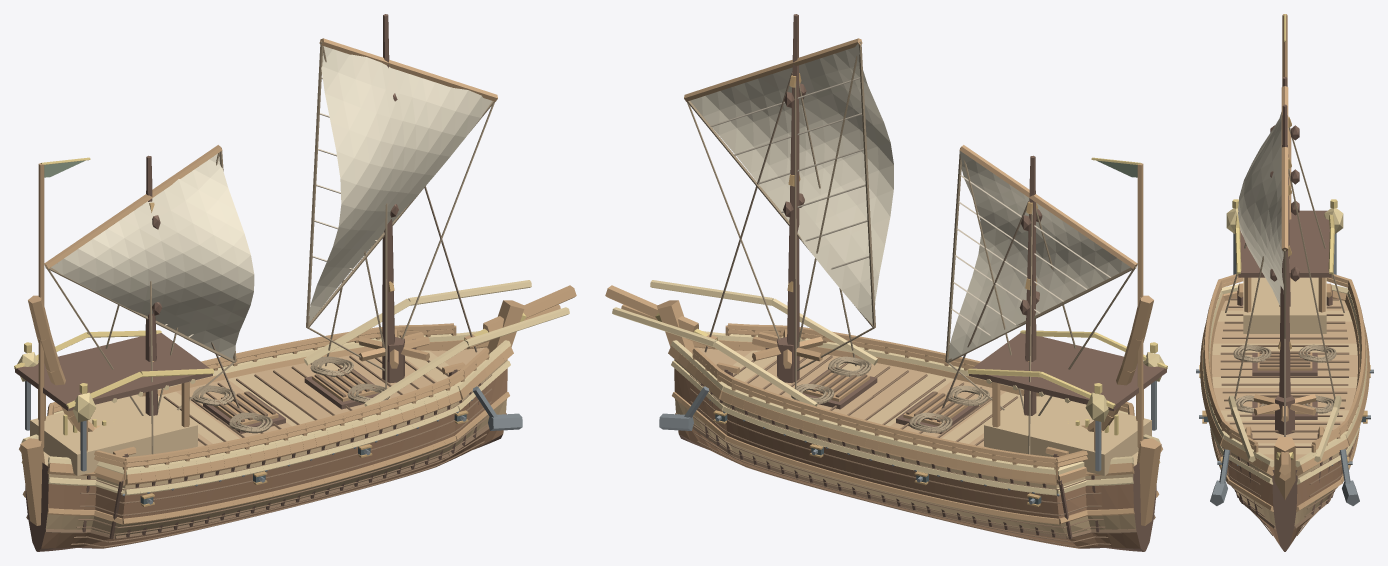
Rendered from oman_boom-v5-mobile.glb.
The picture shows the model from 3 angles, left to right: view 1: azimuth 30°, elevation 25°; view 2: azimuth 150°, elevation 25°; view 3: azimuth 270°, elevation 25°; orthographic projection. The views are drawn at different scales.
Visible parts, largest first — view 1: oman_boom_sails_sail, oman_boom_hull_wood, oman_boom_hull_hull2, oman_boom_hull_seam, oman_boom_hull_pale, oman_boom_railings_wood, oman_boom_deck_darkwood, oman_boom_deck_decklight, oman_boom_hull_pine, oman_boom_hull_deck, oman_boom_rigging_rope, oman_boom_ornament_pale (+14 smaller); view 2: oman_boom_sails_sail, oman_boom_hull_wood, oman_boom_hull_hull2, oman_boom_hull_seam, oman_boom_hull_pale, oman_boom_railings_wood, oman_boom_deck_darkwood, oman_boom_deck_decklight, oman_boom_rigging_rope, oman_boom_hull_pine, oman_boom_masts_darkwood, oman_boom_hull_deck (+16 smaller); view 3: oman_boom_hull_deck, oman_boom_sails_sail, oman_boom_hull_wood, oman_boom_hull_seam, oman_boom_deck_decklight, oman_boom_hull_decklight, oman_boom_deck_darkwood, oman_boom_railings_wood, oman_boom_hull_pale, oman_boom_masts_darkwood, oman_boom_hull_hull2, oman_boom_fittings_wood (+15 smaller).
Part boxes in pixels (x1,y1,x2,y2): oman_boom_sails_sail: [51, 46, 492, 358]; oman_boom_hull_wood: [19, 300, 560, 525]; oman_boom_hull_hull2: [41, 368, 507, 548]; oman_boom_hull_seam: [26, 355, 506, 547]; oman_boom_hull_pale: [21, 331, 510, 495]; oman_boom_railings_wood: [47, 323, 489, 479]; oman_boom_deck_darkwood: [15, 333, 212, 411]; oman_boom_deck_decklight: [30, 394, 197, 475]; oman_boom_hull_pine: [45, 346, 507, 536]; oman_boom_hull_deck: [176, 347, 486, 447]; oman_boom_rigging_rope: [45, 41, 494, 415]; oman_boom_ornament_pale: [304, 280, 569, 406]; oman_boom_sails_sail: [690, 43, 1130, 359]; oman_boom_hull_wood: [621, 300, 1162, 525]; oman_boom_hull_hull2: [674, 368, 1140, 548]; oman_boom_hull_seam: [675, 355, 1155, 547]; oman_boom_hull_pale: [671, 331, 1160, 495]; oman_boom_railings_wood: [692, 323, 1134, 479]; oman_boom_deck_darkwood: [969, 333, 1166, 411]; oman_boom_deck_decklight: [984, 394, 1151, 475]; oman_boom_rigging_rope: [687, 41, 1136, 415]; oman_boom_hull_pine: [674, 346, 1136, 536]; oman_boom_masts_darkwood: [783, 14, 1042, 415]; oman_boom_hull_deck: [695, 347, 1005, 447]; oman_boom_hull_deck: [1212, 299, 1357, 460]; oman_boom_sails_sail: [1238, 112, 1283, 305]; oman_boom_hull_wood: [1200, 290, 1369, 511]; oman_boom_hull_seam: [1213, 298, 1356, 535]; oman_boom_deck_decklight: [1243, 277, 1326, 333]; oman_boom_hull_decklight: [1212, 310, 1357, 454]; oman_boom_deck_darkwood: [1238, 210, 1331, 277]; oman_boom_railings_wood: [1203, 274, 1366, 452]; oman_boom_hull_pale: [1203, 283, 1366, 484]; oman_boom_masts_darkwood: [1270, 77, 1299, 397]; oman_boom_hull_hull2: [1216, 444, 1353, 545]; oman_boom_fittings_wood: [1238, 283, 1331, 438].
Bounding box in the file's own units: 60.38 × 48.16 × 19.18.
